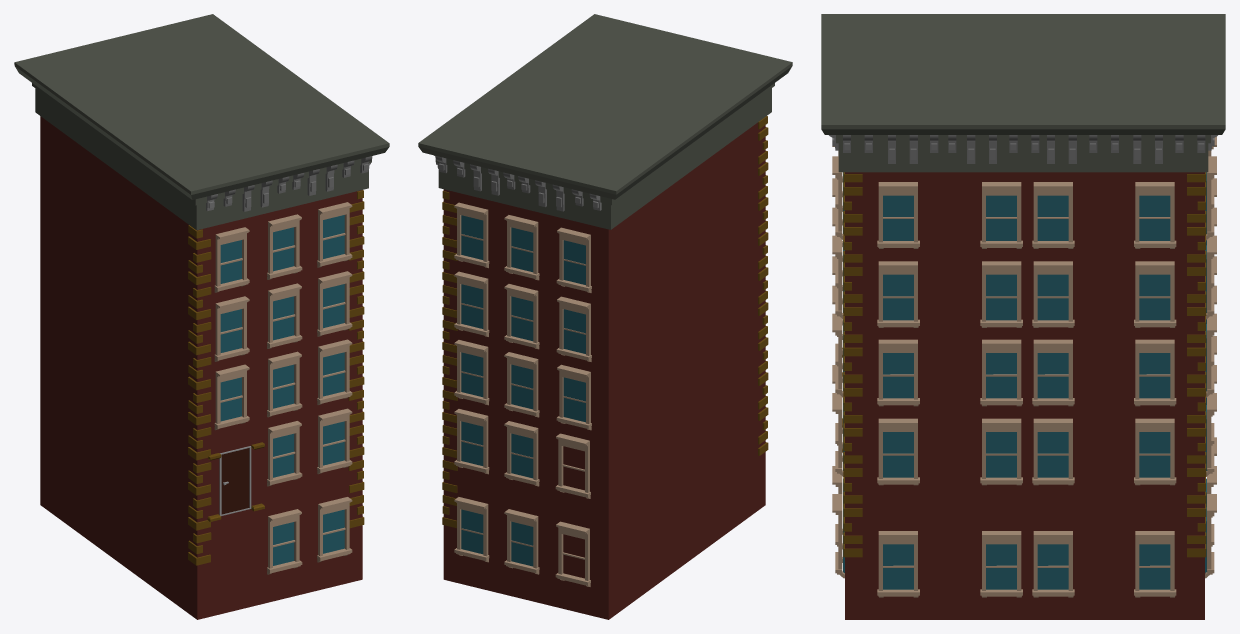
The model's file is Building_OneObject_NoMaterial_Scaled.fbx.
3 renders of one model, left to right at view 1: azimuth 30°, elevation 25°; view 2: azimuth 150°, elevation 25°; view 3: azimuth 270°, elevation 25°, orthographic. The views are drawn at different scales.
Parts seen in each view (by area): view 1: Cube.496; view 2: Cube.496; view 3: Cube.496.
Part boxes in pixels (bbox=[...]): Cube.496: bbox=[14, 14, 389, 619]; Cube.496: bbox=[418, 14, 792, 619]; Cube.496: bbox=[821, 14, 1225, 619].
Size of the model in its own units: 994 by 2105 by 1531.
